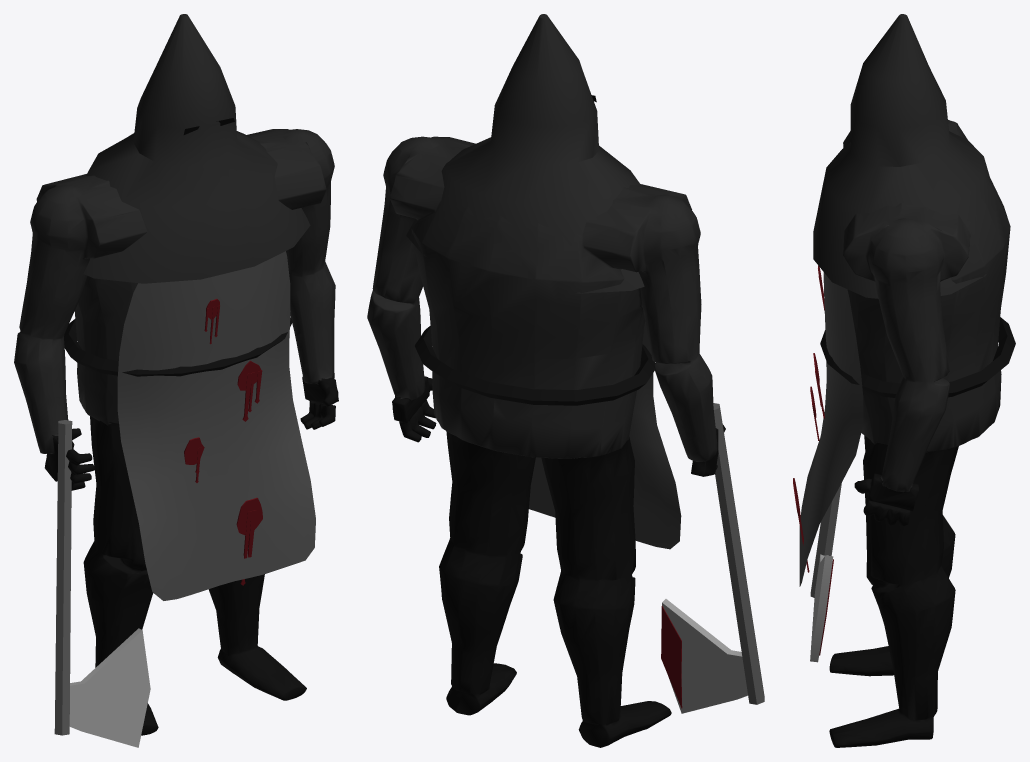
File: SM_Char_korney.fbx
3 views of the same model, side by side, from view 1: azimuth 30°, elevation 25°; view 2: azimuth 150°, elevation 25°; view 3: azimuth 270°, elevation 25° (orthographic). The views are drawn at different scales.
Visible parts, largest first — view 1: SM_Char_korney; view 2: SM_Char_korney; view 3: SM_Char_korney.
Boxes of the visible parts, x1=… form: SM_Char_korney: x1=14, y1=14, x2=338, y2=747; SM_Char_korney: x1=367, y1=14, x2=764, y2=747; SM_Char_korney: x1=793, y1=14, x2=1015, y2=747.
Size of the model in its own units: 1.14 by 2.26 by 0.6603.
